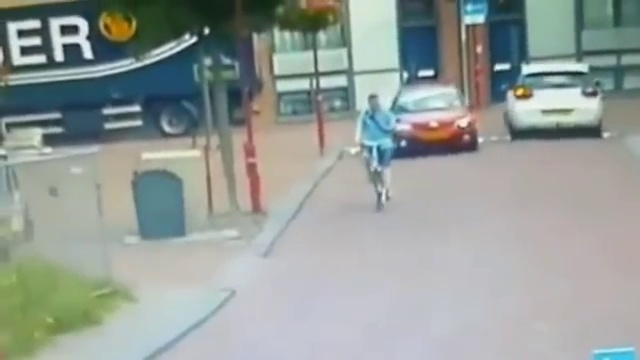cyclist_front: (354, 90, 397, 213)
